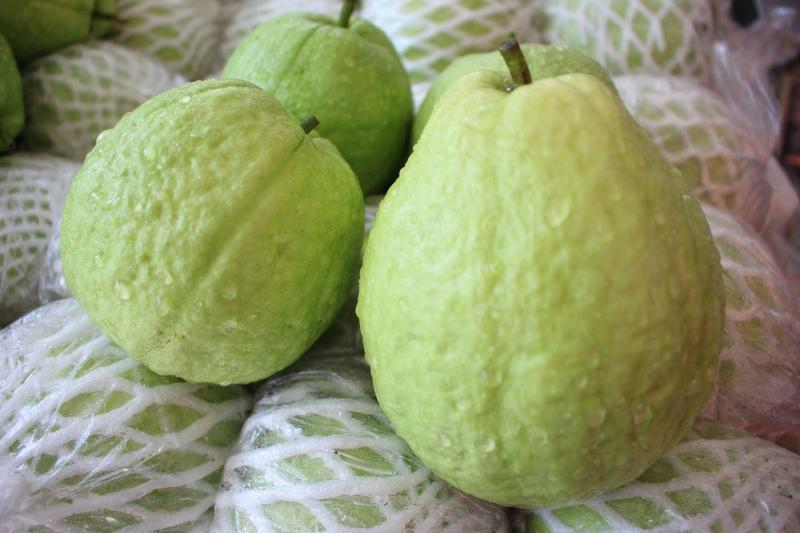guava: (357, 43, 721, 504), (61, 83, 364, 384)
